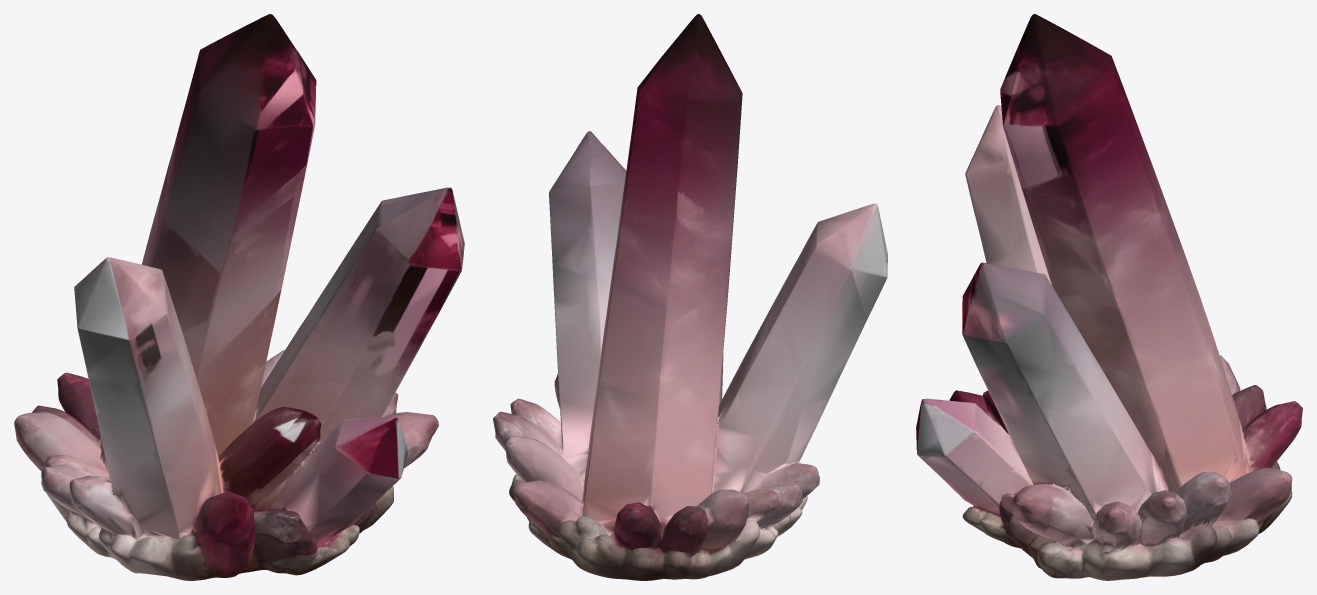
File: crystals.glb
3 views of the same model, side by side, from view 1: azimuth 30°, elevation 25°; view 2: azimuth 150°, elevation 25°; view 3: azimuth 270°, elevation 25° (orthographic). The views are drawn at different scales.
Visible parts, largest first — view 1: node_0; view 2: node_0; view 3: node_0.
Part boxes in pixels (bbox=[...]): node_0: bbox=[14, 14, 464, 580]; node_0: bbox=[493, 14, 887, 580]; node_0: bbox=[916, 14, 1302, 580].
Bounding box in the file's own units: 0.7681 × 1.04 × 0.7143.
Materials: 1 (1 with a texture image).
